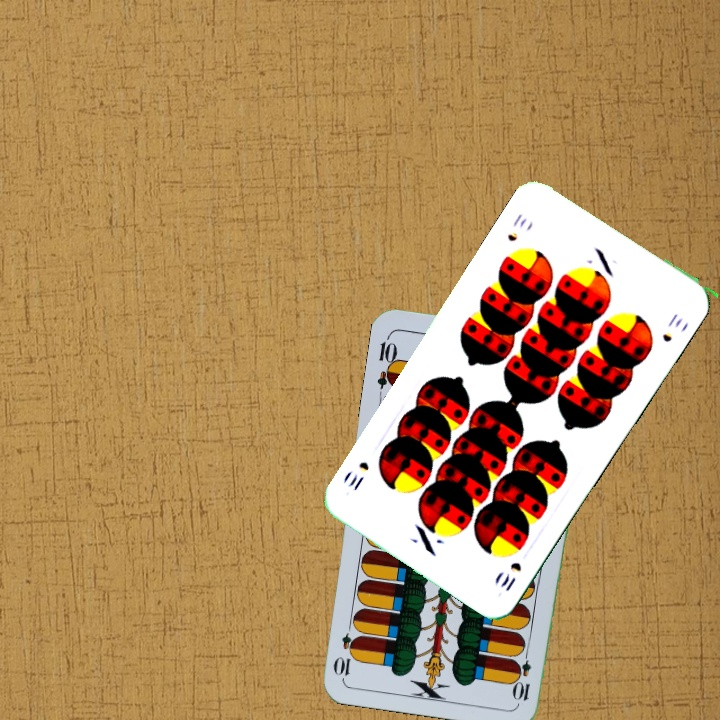E10: (373, 331, 401, 390), (512, 644, 534, 703)
S10: (492, 558, 525, 594), (503, 209, 530, 245)
